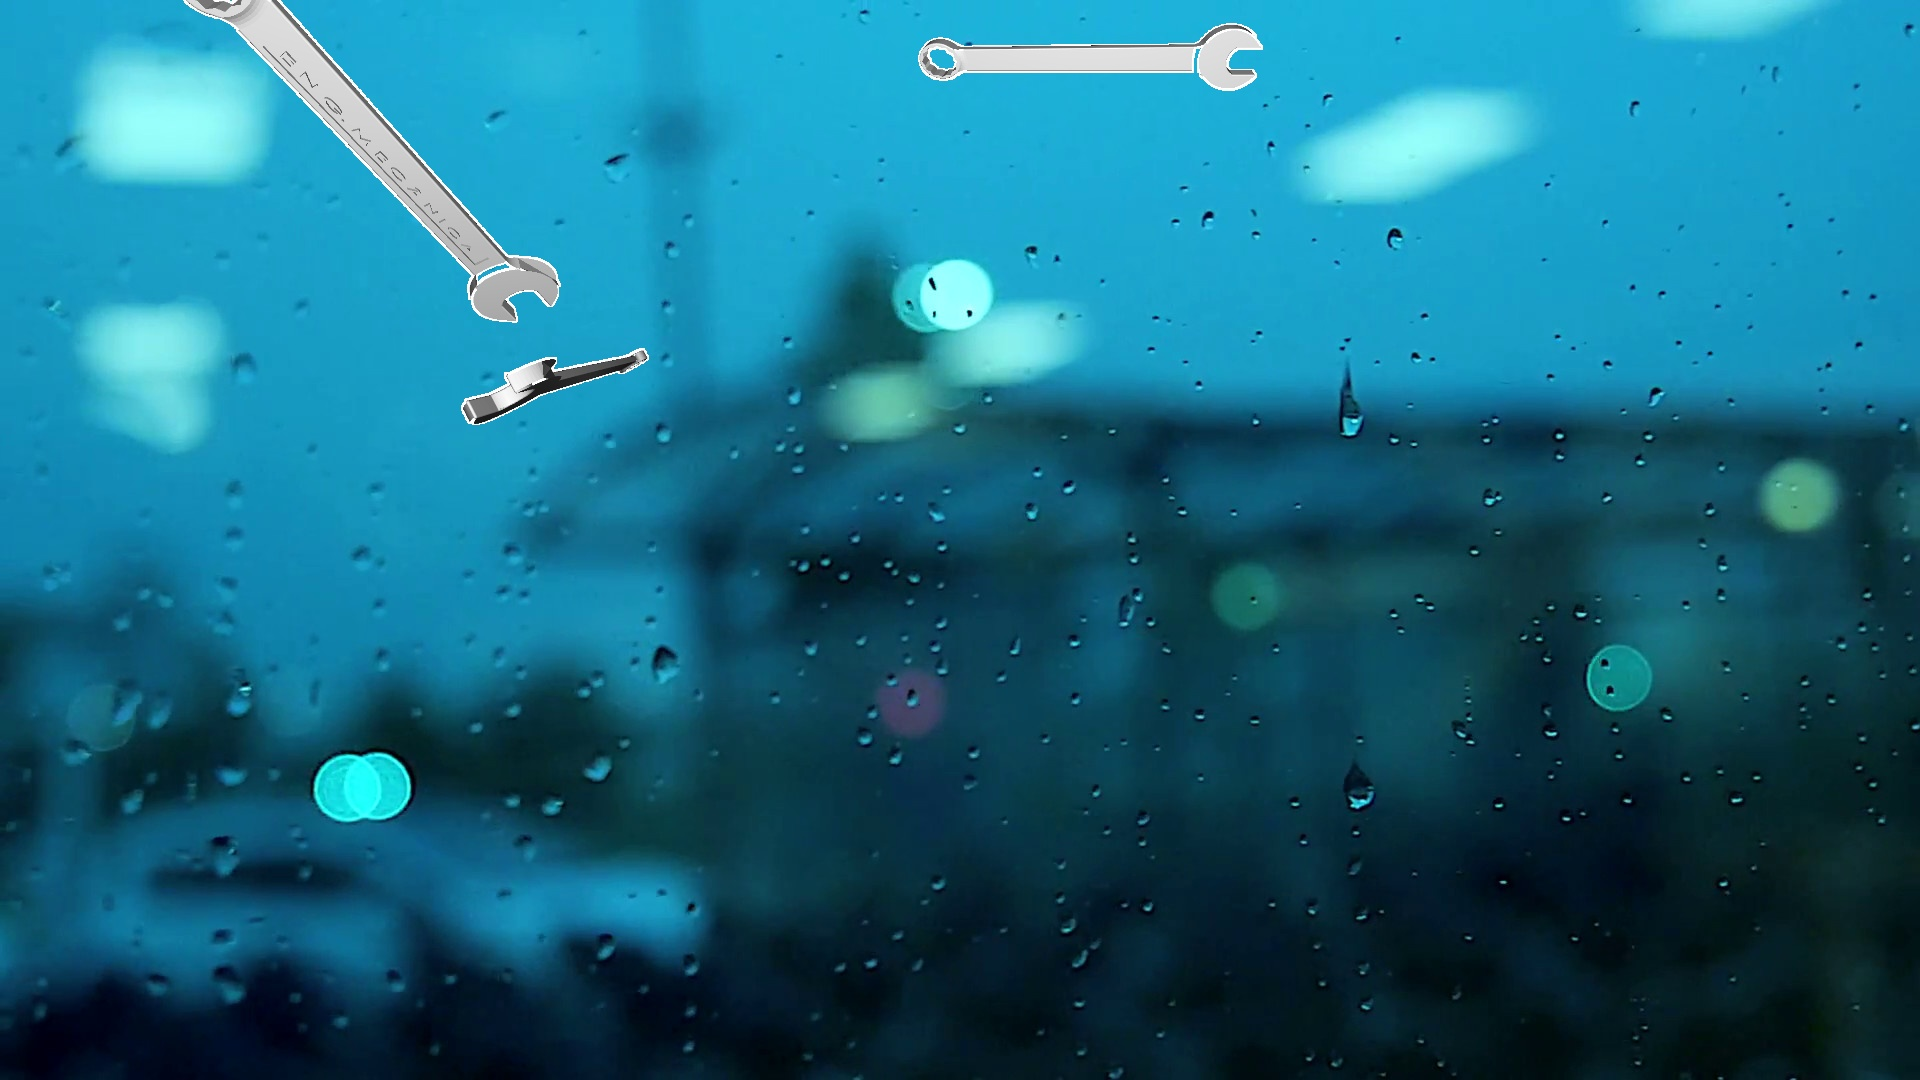Mixed Key: (183, 0, 560, 322), (918, 22, 1262, 90), (462, 348, 647, 425)
